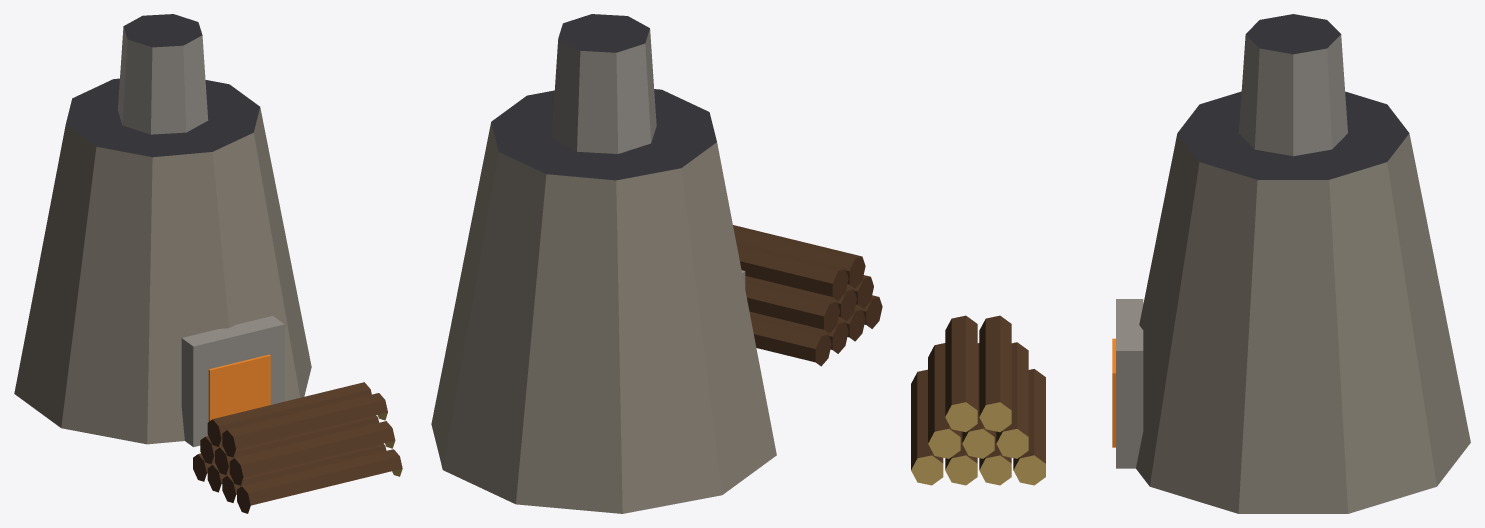
Rendered from kiln.obj.
The picture shows the model from 3 angles, left to right: view 1: azimuth 30°, elevation 25°; view 2: azimuth 150°, elevation 25°; view 3: azimuth 270°, elevation 25°; orthographic projection. The views are drawn at different scales.
Size of the model in its own units: 4.95 by 6.6 by 8.2.
